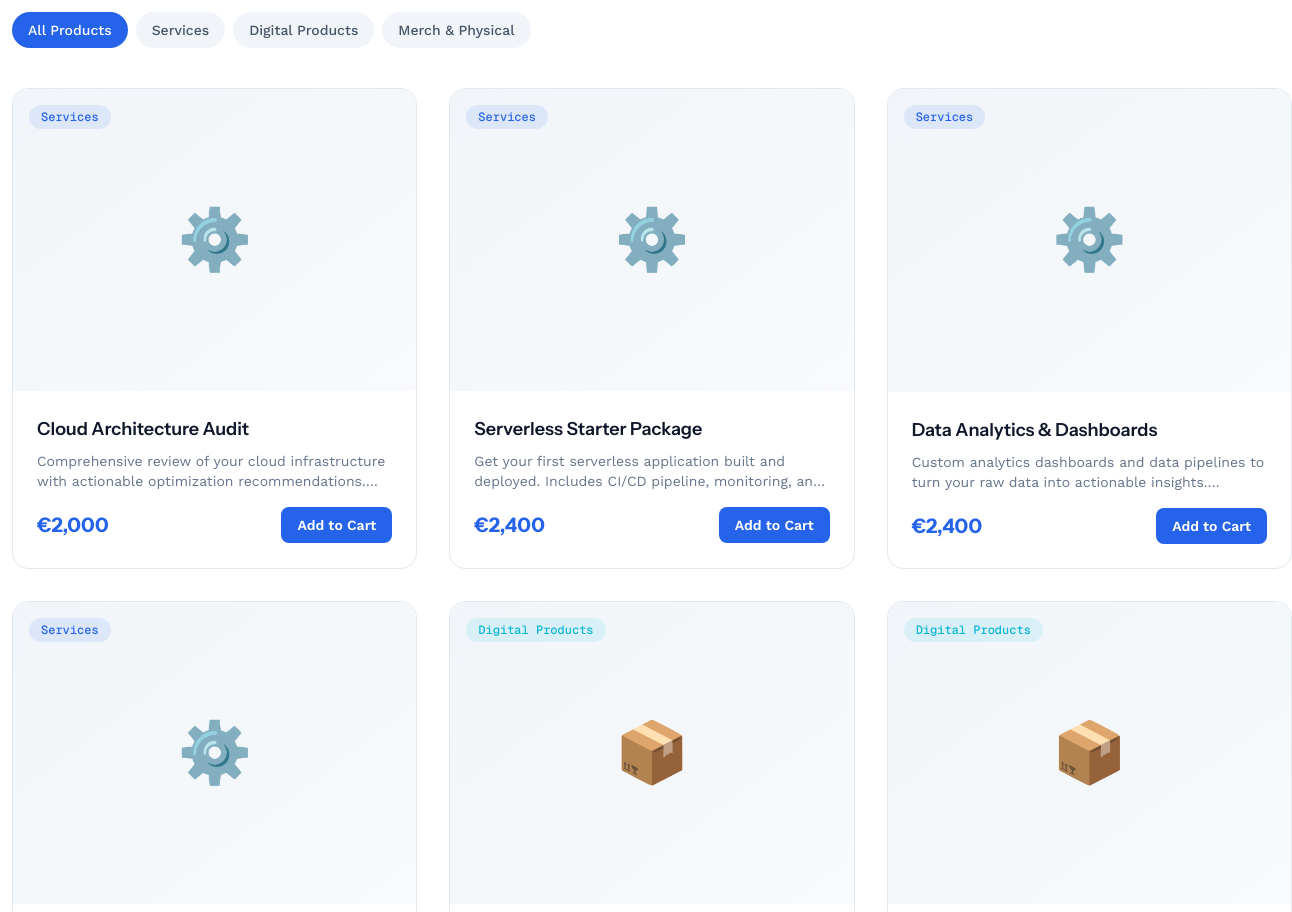
Test case: StoreGrid › filters to physical products
Click the button "Merch & Physical" at x=456, y=30, box [382,12,530,48]
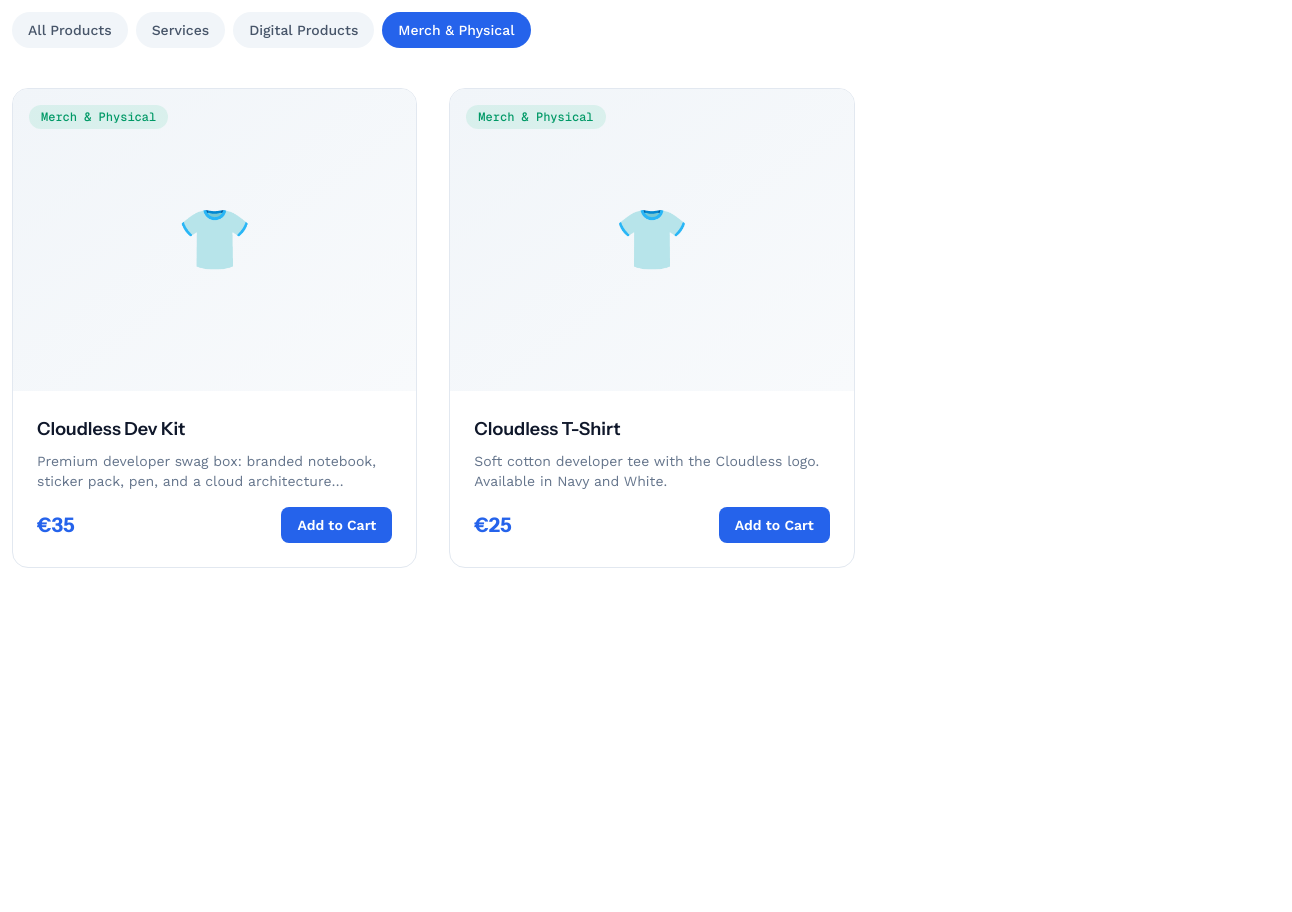
Expected: the number of buttons "Add to Cart" is 2, [282,508,392,544]; [719,508,830,544]
